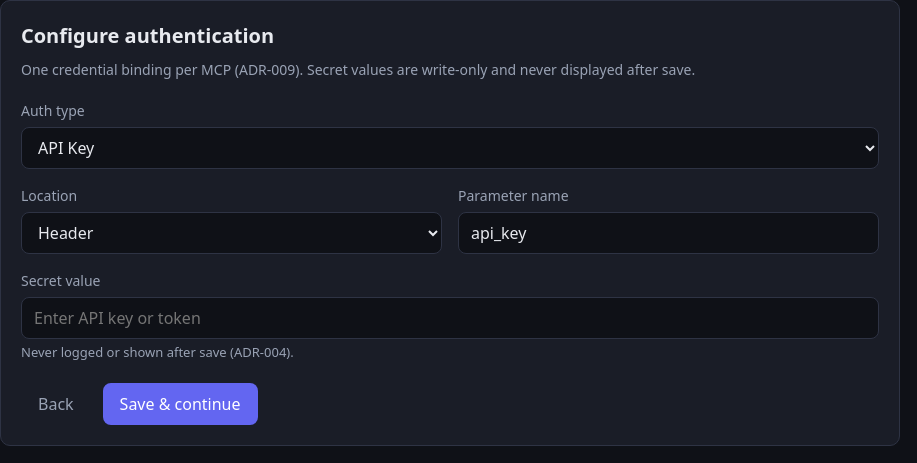
Test: AuthStep › updates auth type config when switching to bearer
Select "Bearer token" in the dropdown labelled "Auth type" at (450, 148), box [21,127,879,169]
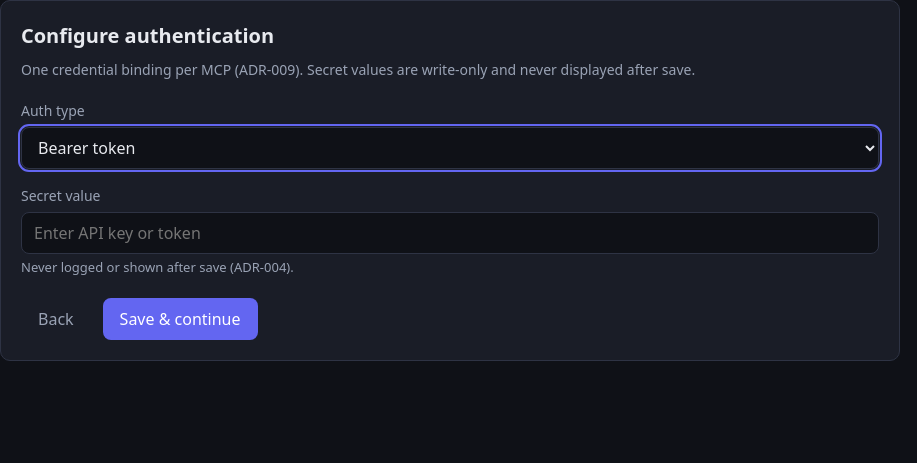
Now the label labelled "Parameter name" is gone
